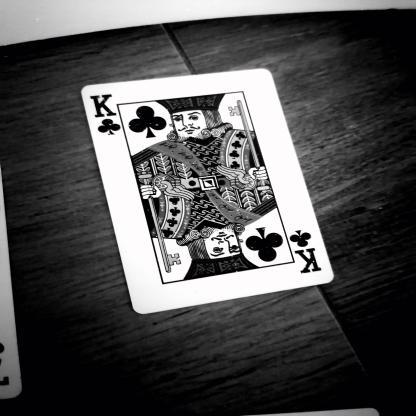KC: (86, 89, 126, 149), (286, 216, 322, 274)
